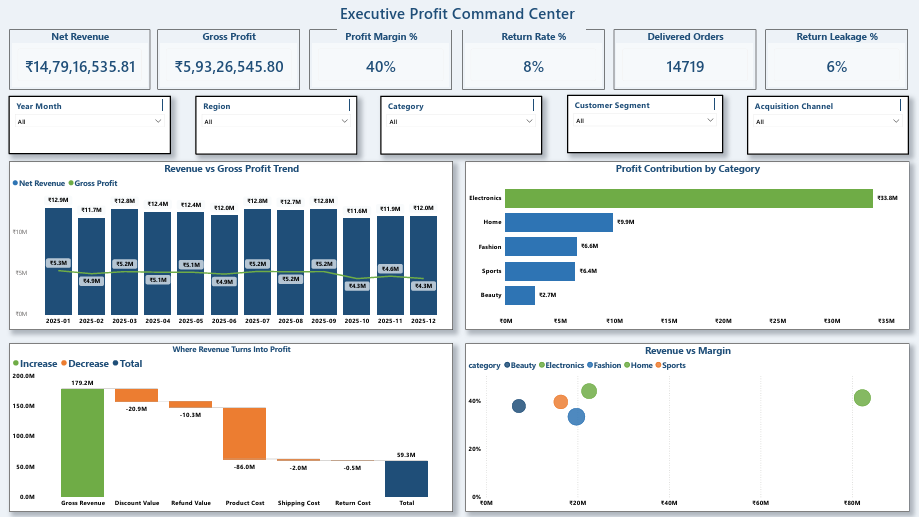

What the dashboard file says about the page in this screenshot:
{"tool":"powerbi","page":{"name":"Executive Profit Command Center","canvas":[1920,1080],"ordinal":0},"visuals":[{"type":"cardVisual","title":"Net Revenue","fields":{"Data":["ProfitTrace Measures.Net Revenue"]},"box":[19.8,61.7,293.1,125.6],"z":0},{"type":"cardVisual","title":"Profit Margin %","fields":{"Data":["ProfitTrace Measures.Profit Margin %"]},"box":[643.6,61.7,296,125],"z":1000},{"type":"cardVisual","title":"Gross Profit","fields":{"Data":["ProfitTrace Measures.Gross Profit"]},"box":[328.4,61.7,296,125],"z":2000},{"type":"cardVisual","title":"Return Rate %","fields":{"Data":["ProfitTrace Measures.Return Rate %"]},"box":[961,61.7,296,125],"z":3000},{"type":"cardVisual","title":"Return Leakage %","fields":{"Data":["ProfitTrace Measures.Return Leakage %"]},"box":[1591.3,61.7,296,125],"z":4000},{"type":"cardVisual","title":"Delivered Orders","fields":{"Data":["ProfitTrace Measures.Delivered Orders"]},"box":[1276.2,61.7,296,125],"z":5000},{"type":"lineClusteredColumnComboChart","title":"Revenue vs Gross Profit Trend","fields":{"Category":["DimDate.Year Month"],"Y":["ProfitTrace Measures.Net Revenue"],"Y2":["ProfitTrace Measures.Gross Profit"]},"box":[20,336,922,350],"z":6000},{"type":"clusteredBarChart","title":"Profit Contribution by Category","fields":{"Category":["DimProduct.category"],"Y":["ProfitTrace Measures.Gross Profit"]},"box":[968,336,922,350],"z":7000},{"type":"waterfallChart","title":"Where Revenue Turns Into Profit","fields":{"Category":["Waterfall Steps.Step"],"Y":["ProfitTrace Measures.Waterfall Value"]},"box":[20,714,922,350],"z":8000},{"type":"scatterChart","title":"Revenue vs Margin","fields":{"X":["ProfitTrace Measures.Net Revenue"],"Y":["ProfitTrace Measures.Profit Margin %"],"Size":["ProfitTrace Measures.Delivered Orders"],"Series":["DimProduct.category"]},"box":[968,714,922,350],"z":9000},{"type":"slicer","fields":{"Values":["DimDate.Year Month"]},"box":[19.3,200.2,337.2,121.2],"z":10000},{"type":"slicer","fields":{"Values":["DimCustomer.region"]},"box":[407.4,200.5,336,122],"z":11000},{"type":"slicer","fields":{"Values":["DimProduct.category"]},"box":[791.4,200.5,336,122],"z":12000},{"type":"slicer","fields":{"Values":["DimCustomer.customer_segment"]},"box":[1178.9,198.2,324,121.2],"z":13000},{"type":"slicer","fields":{"Values":["DimCustomer.acquisition_channel"]},"box":[1553.4,200.5,336,122],"z":14000},{"type":"textbox","box":[702.1,0,515.8,61.7],"z":15000}]}

Visuals, with their boxes in screenshot pixels (x1, y1, x2, y2), scaled from the page's 1920x1080 canvas onto the 919x517 screenshot:
"Net Revenue" cardVisual: detection(9, 30, 150, 90)
"Profit Margin %" cardVisual: detection(308, 30, 450, 89)
"Gross Profit" cardVisual: detection(157, 30, 299, 89)
"Return Rate %" cardVisual: detection(460, 30, 602, 89)
"Return Leakage %" cardVisual: detection(762, 30, 903, 89)
"Delivered Orders" cardVisual: detection(611, 30, 753, 89)
"Revenue vs Gross Profit Trend" lineClusteredColumnComboChart: detection(10, 161, 451, 328)
"Profit Contribution by Category" clusteredBarChart: detection(463, 161, 905, 328)
"Where Revenue Turns Into Profit" waterfallChart: detection(10, 342, 451, 509)
"Revenue vs Margin" scatterChart: detection(463, 342, 905, 509)
slicer - DimDate.Year Month: detection(9, 96, 171, 154)
slicer - DimCustomer.region: detection(195, 96, 356, 154)
slicer - DimProduct.category: detection(379, 96, 540, 154)
slicer - DimCustomer.customer_segment: detection(564, 95, 719, 153)
slicer - DimCustomer.acquisition_channel: detection(744, 96, 904, 154)
textbox: detection(336, 0, 583, 30)
